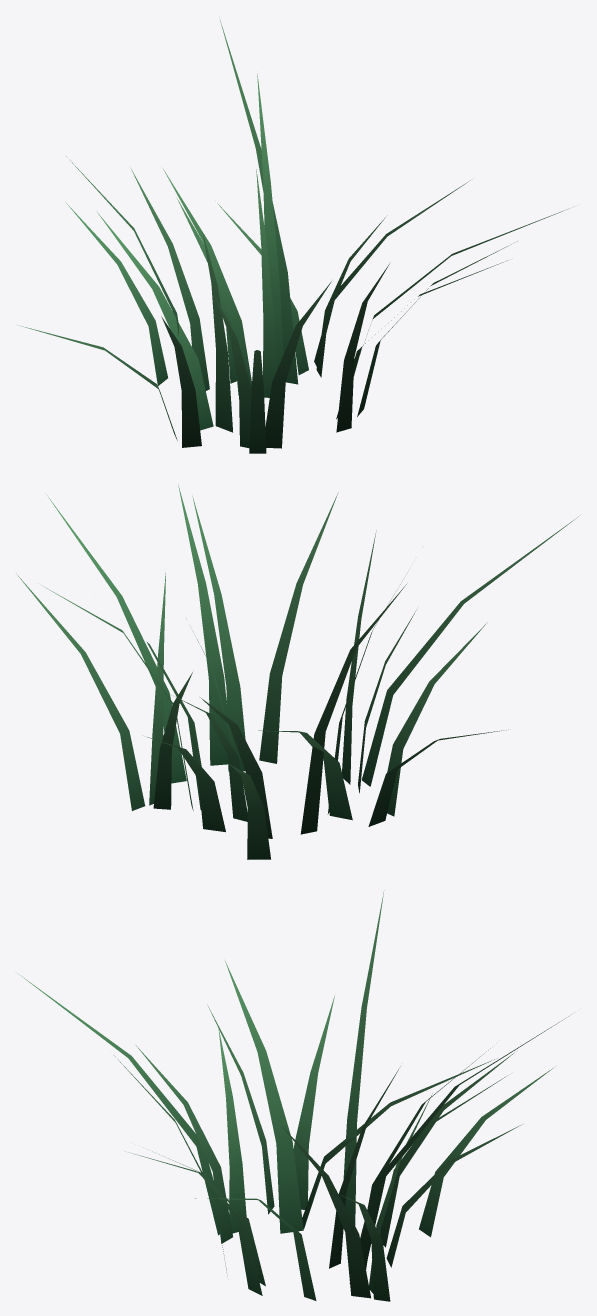
The model's file is grass_teal.glb.
3 views of the same model, one above another, from view 1: azimuth 30°, elevation 25°; view 2: azimuth 150°, elevation 25°; view 3: azimuth 270°, elevation 25° (orthographic). The views are drawn at different scales.
Parts seen in each view (by area): view 1: grass_teal; view 2: grass_teal; view 3: grass_teal.
Boxes of the visible parts, x1,y1,x2,y2 form: grass_teal: [18, 20, 569, 453]; grass_teal: [16, 485, 578, 859]; grass_teal: [17, 890, 571, 1301].
Size of the model in its own units: 0.8278 by 0.4427 by 0.7801.
